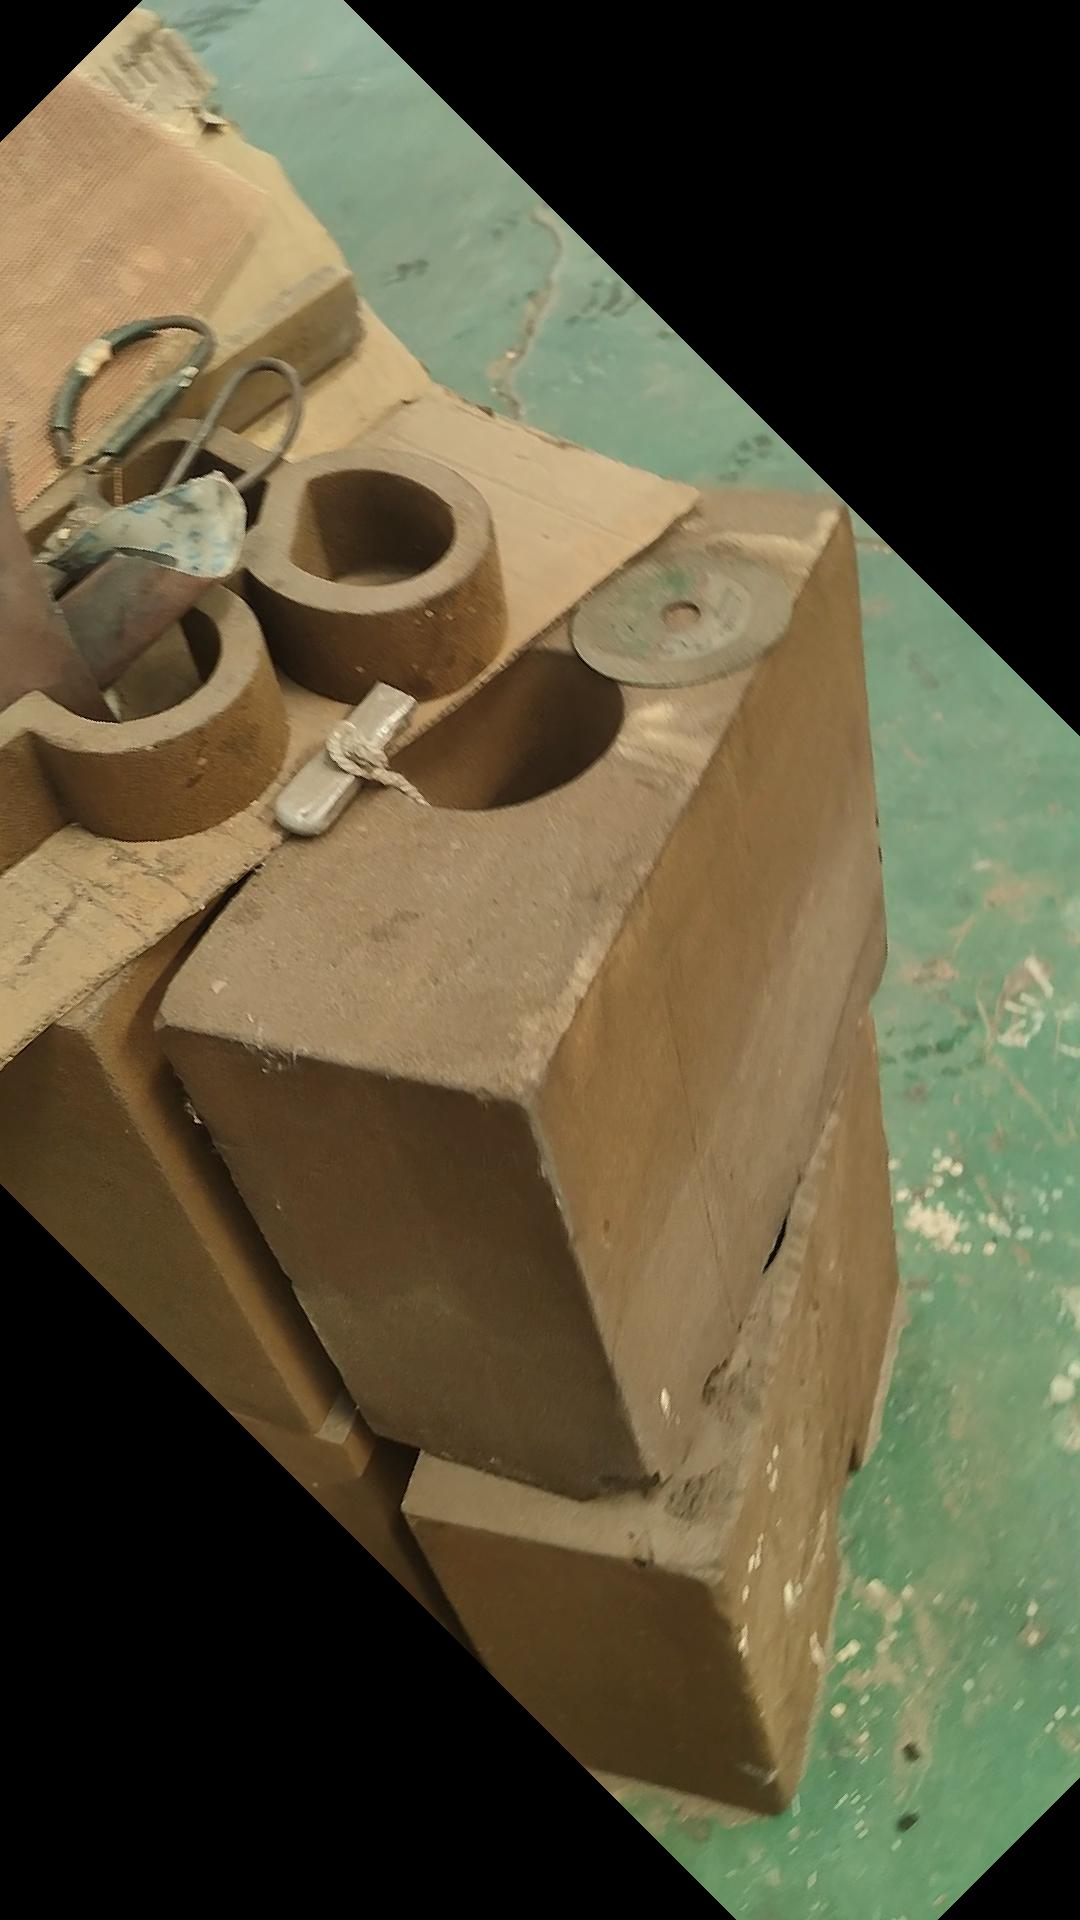pouring hole: (380, 650, 629, 812)
